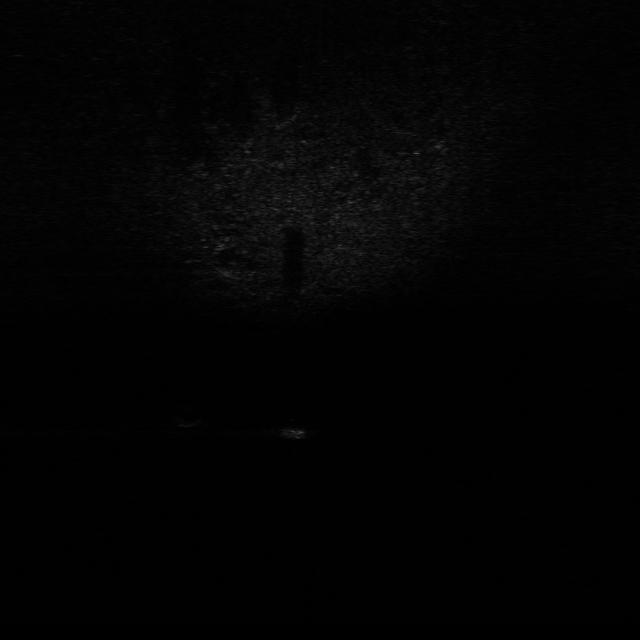ball: (170, 398, 204, 429)
cube: (277, 417, 314, 442)
